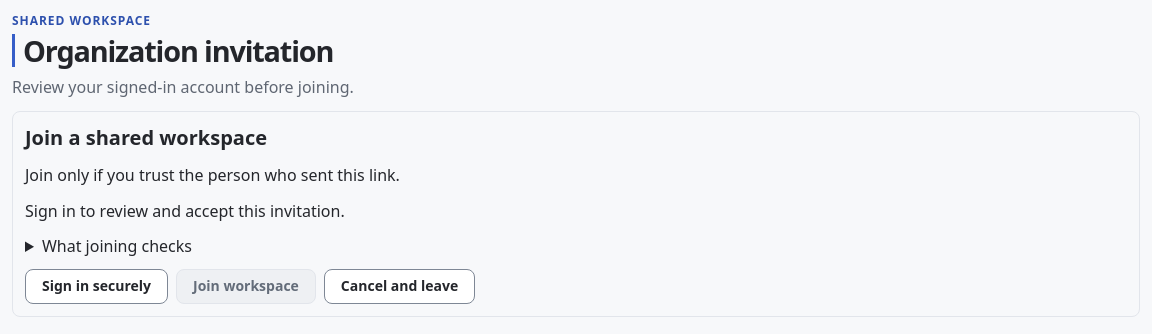
RAM-only explicit invitation acceptance › keeps the invitation through popup sign-in without automatically accepting
expect the text "Sign in to review and accept this invitation." is shown: met, box [25,200,345,222]
expect the button "Join workspace" is disabled: met, box [176,269,316,304]
Click the button "Sign in securely": (96, 286) [25,269,168,304]
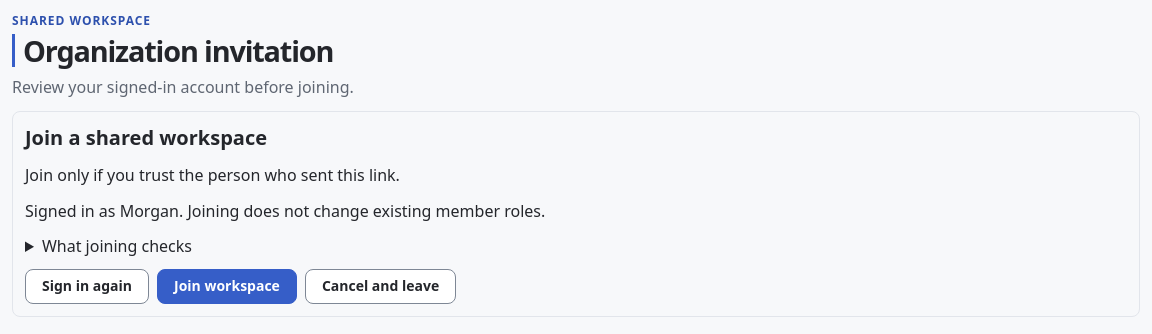
expect the text "Signed in as Morgan" is shown: met, box [25,200,545,222]
Click the button "Join workspace": (227, 286) [157,269,297,304]
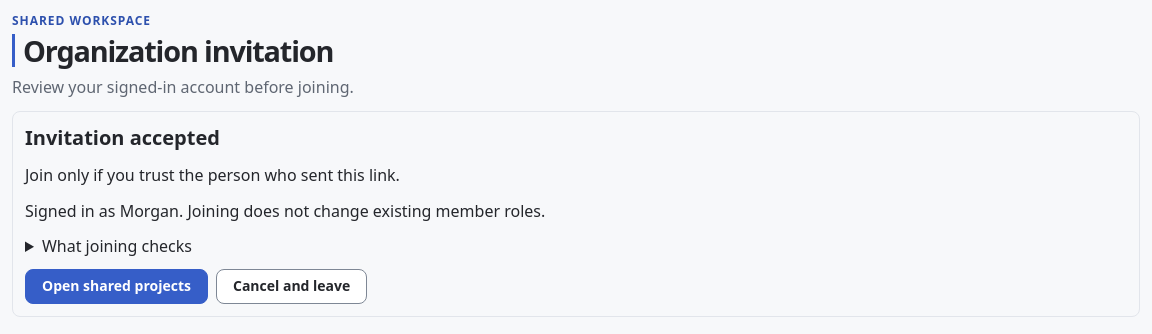
expect the link "Open shared projects" is shown: met, box [25,269,208,304]
